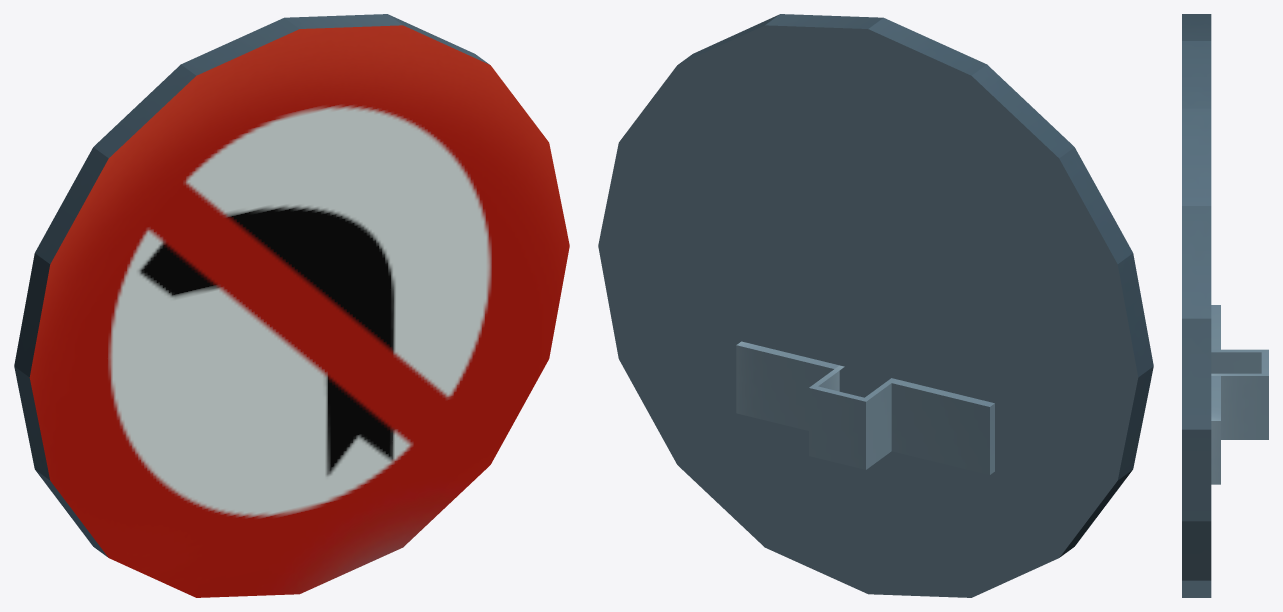
File: Sign51Austrian.fbx
3 views of the same model, side by side, from view 1: azimuth 30°, elevation 25°; view 2: azimuth 150°, elevation 25°; view 3: azimuth 270°, elevation 25° (orthographic). The views are drawn at different scales.
Parts seen in each view (by area): view 1: Sign51Austrian; view 2: Sign51Austrian; view 3: Sign51Austrian.
Boxes of the visible parts, box(x1,y1,x2,y2) form: Sign51Austrian: box(14, 14, 569, 597); Sign51Austrian: box(598, 14, 1153, 597); Sign51Austrian: box(1182, 14, 1268, 597).
Size of the model in its own units: 1 by 1 by 0.1489.
